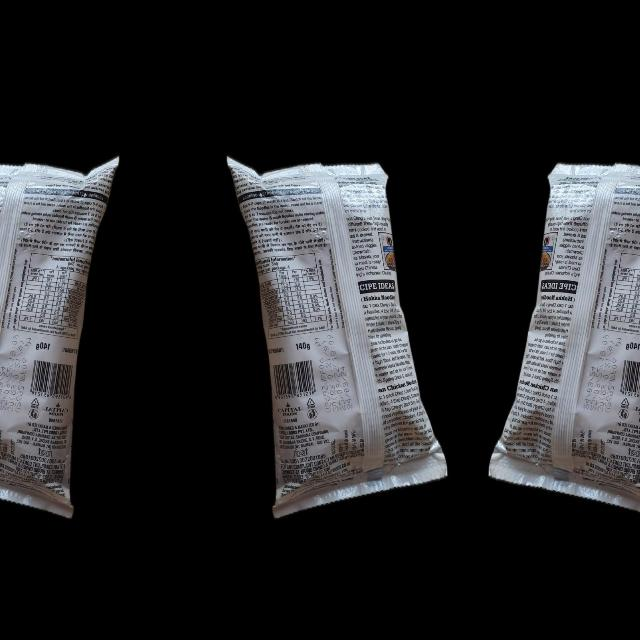Chings Secret Veg Hakka Noodles 140 g Pouch: (223, 155, 447, 520), (488, 155, 640, 520), (0, 155, 121, 520)
